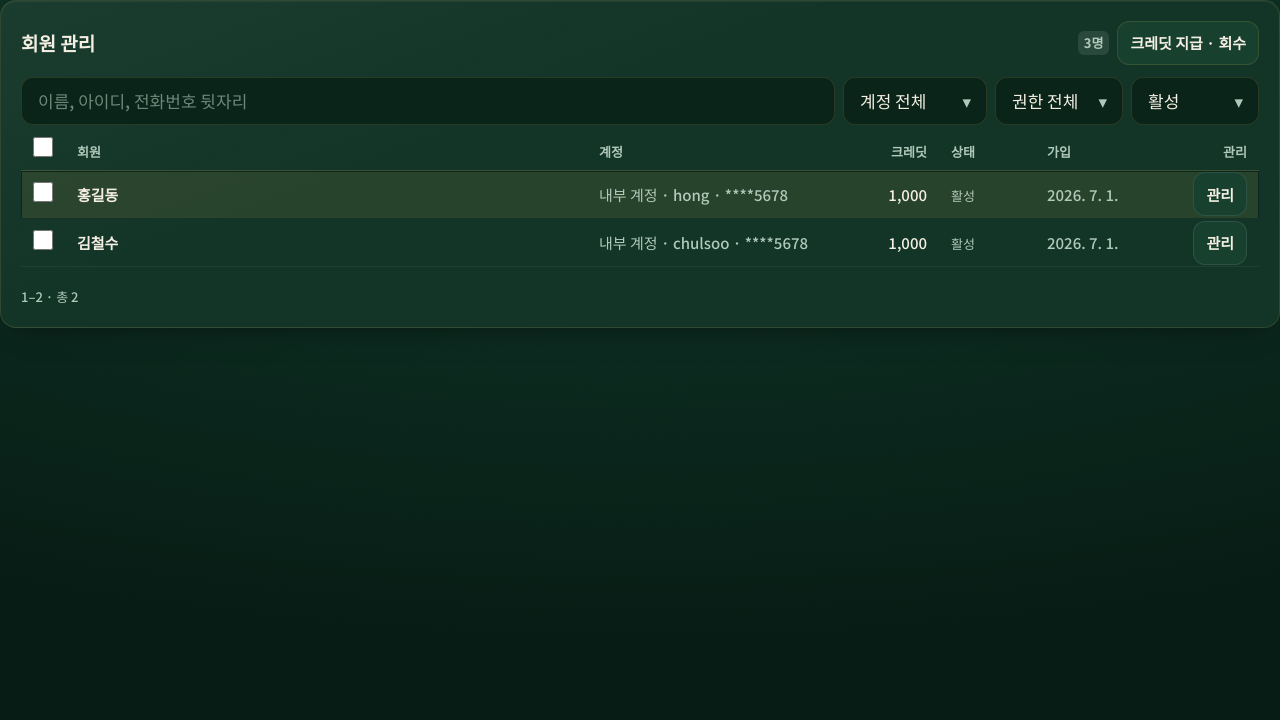
Test: MembersPanel — 일괄 작업 › 일부 실패하면 사유를 회원 이름과 함께 남긴다
Step 1. Click the checkbox named "김철수 회원 선택" → (43,240), box [33,230,53,250]
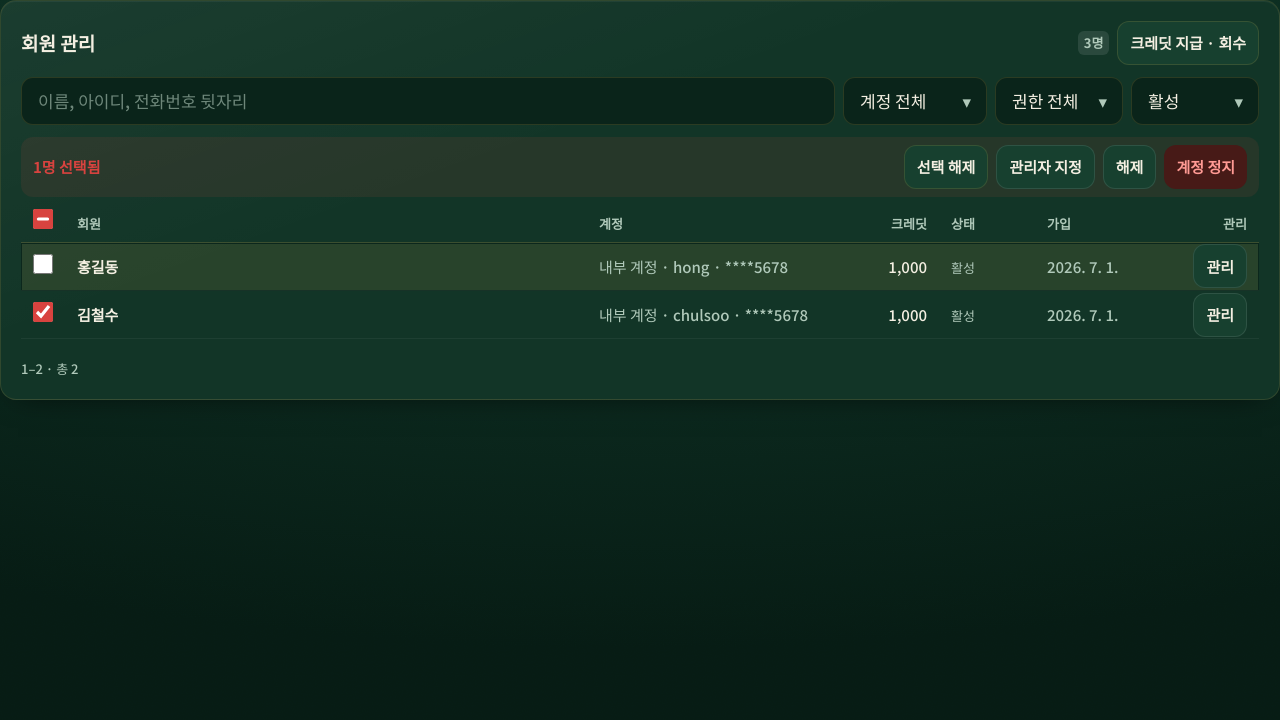
Step 2. Click the button "관리자 지정" → (1046,167), box [996,145,1095,189]
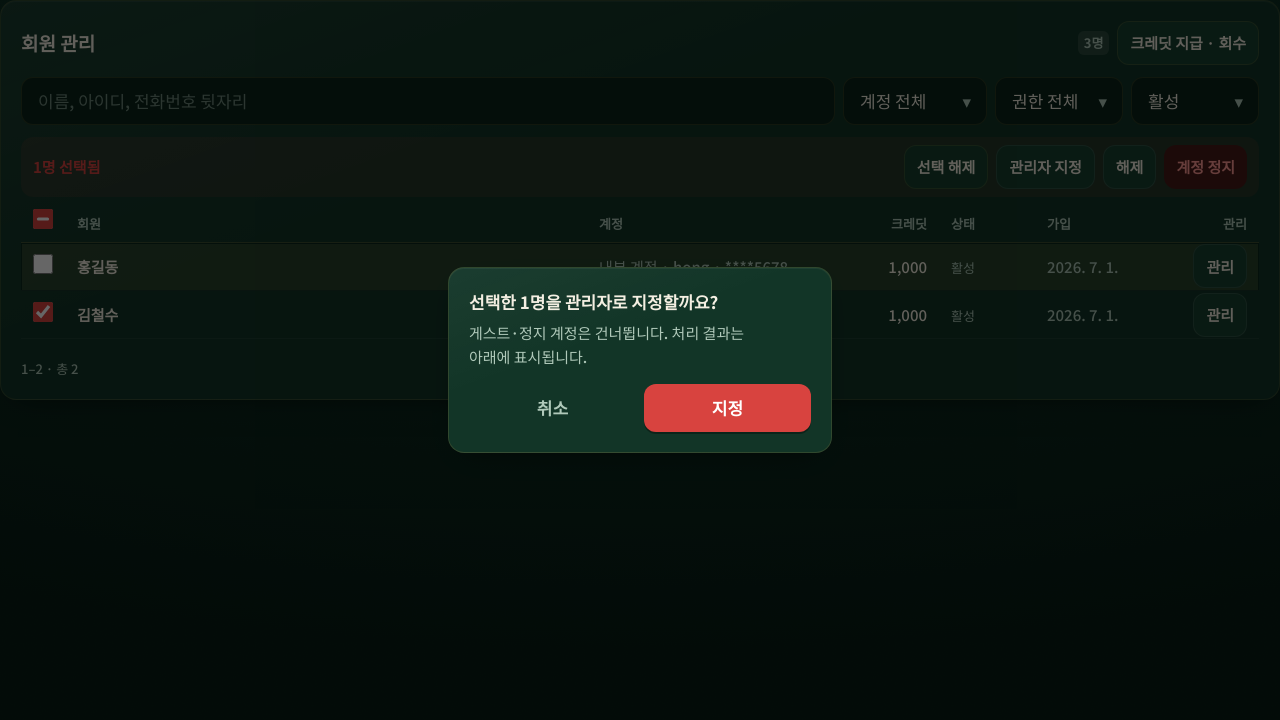
Step 3. Click the button "지정" → (728,408), box [644,384,811,432]
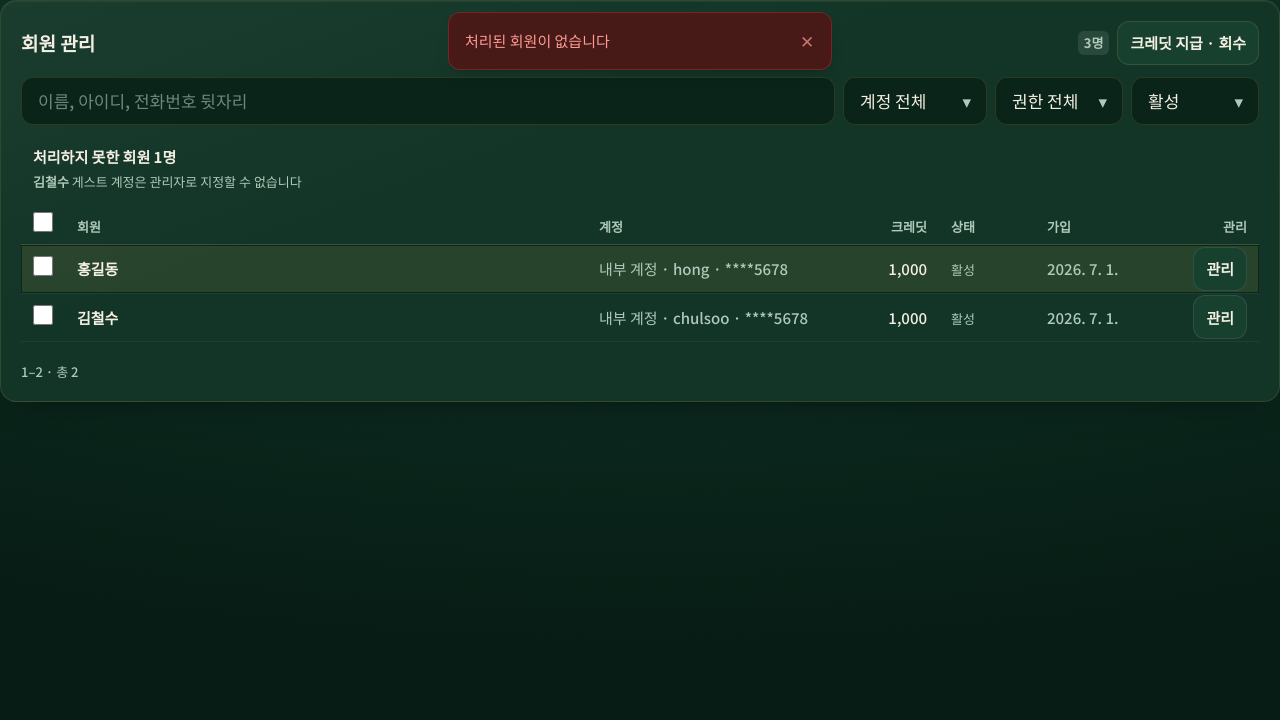
Expected: the list item "게스트 계정은 관리자로 지정할 수 없습니다" is shown, [72,172,302,191]
